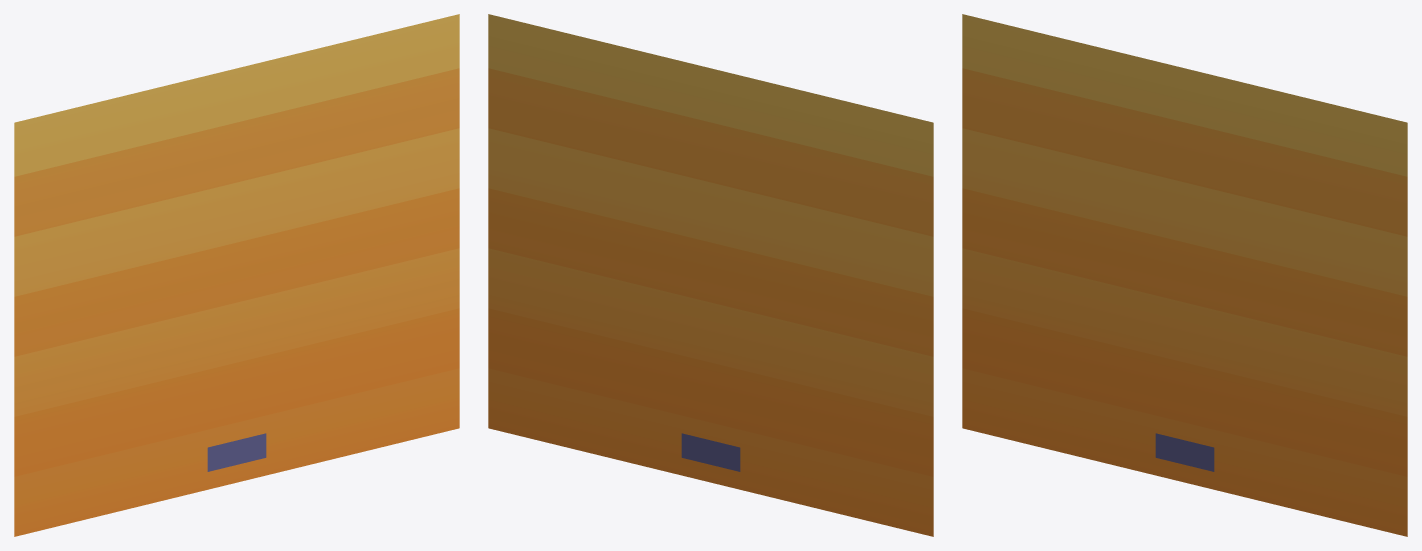
The model's file is kenney-conveyor-door-wide-closed.glb.
3 renders of one model, left to right at view 1: azimuth 30°, elevation 25°; view 2: azimuth 150°, elevation 25°; view 3: azimuth 330°, elevation 25°, orthographic.
Visible parts, largest first — view 1: door-wide-closed; view 2: door-wide-closed; view 3: door-wide-closed.
Part boxes in pixels (box(x1,y1,x2,y2)): door-wide-closed: box(14, 14, 459, 536); door-wide-closed: box(488, 14, 933, 536); door-wide-closed: box(962, 14, 1407, 536).
Size of the model in its own units: 1.8 by 1.6 by 0.
Materials: 1 (1 with a texture image).
